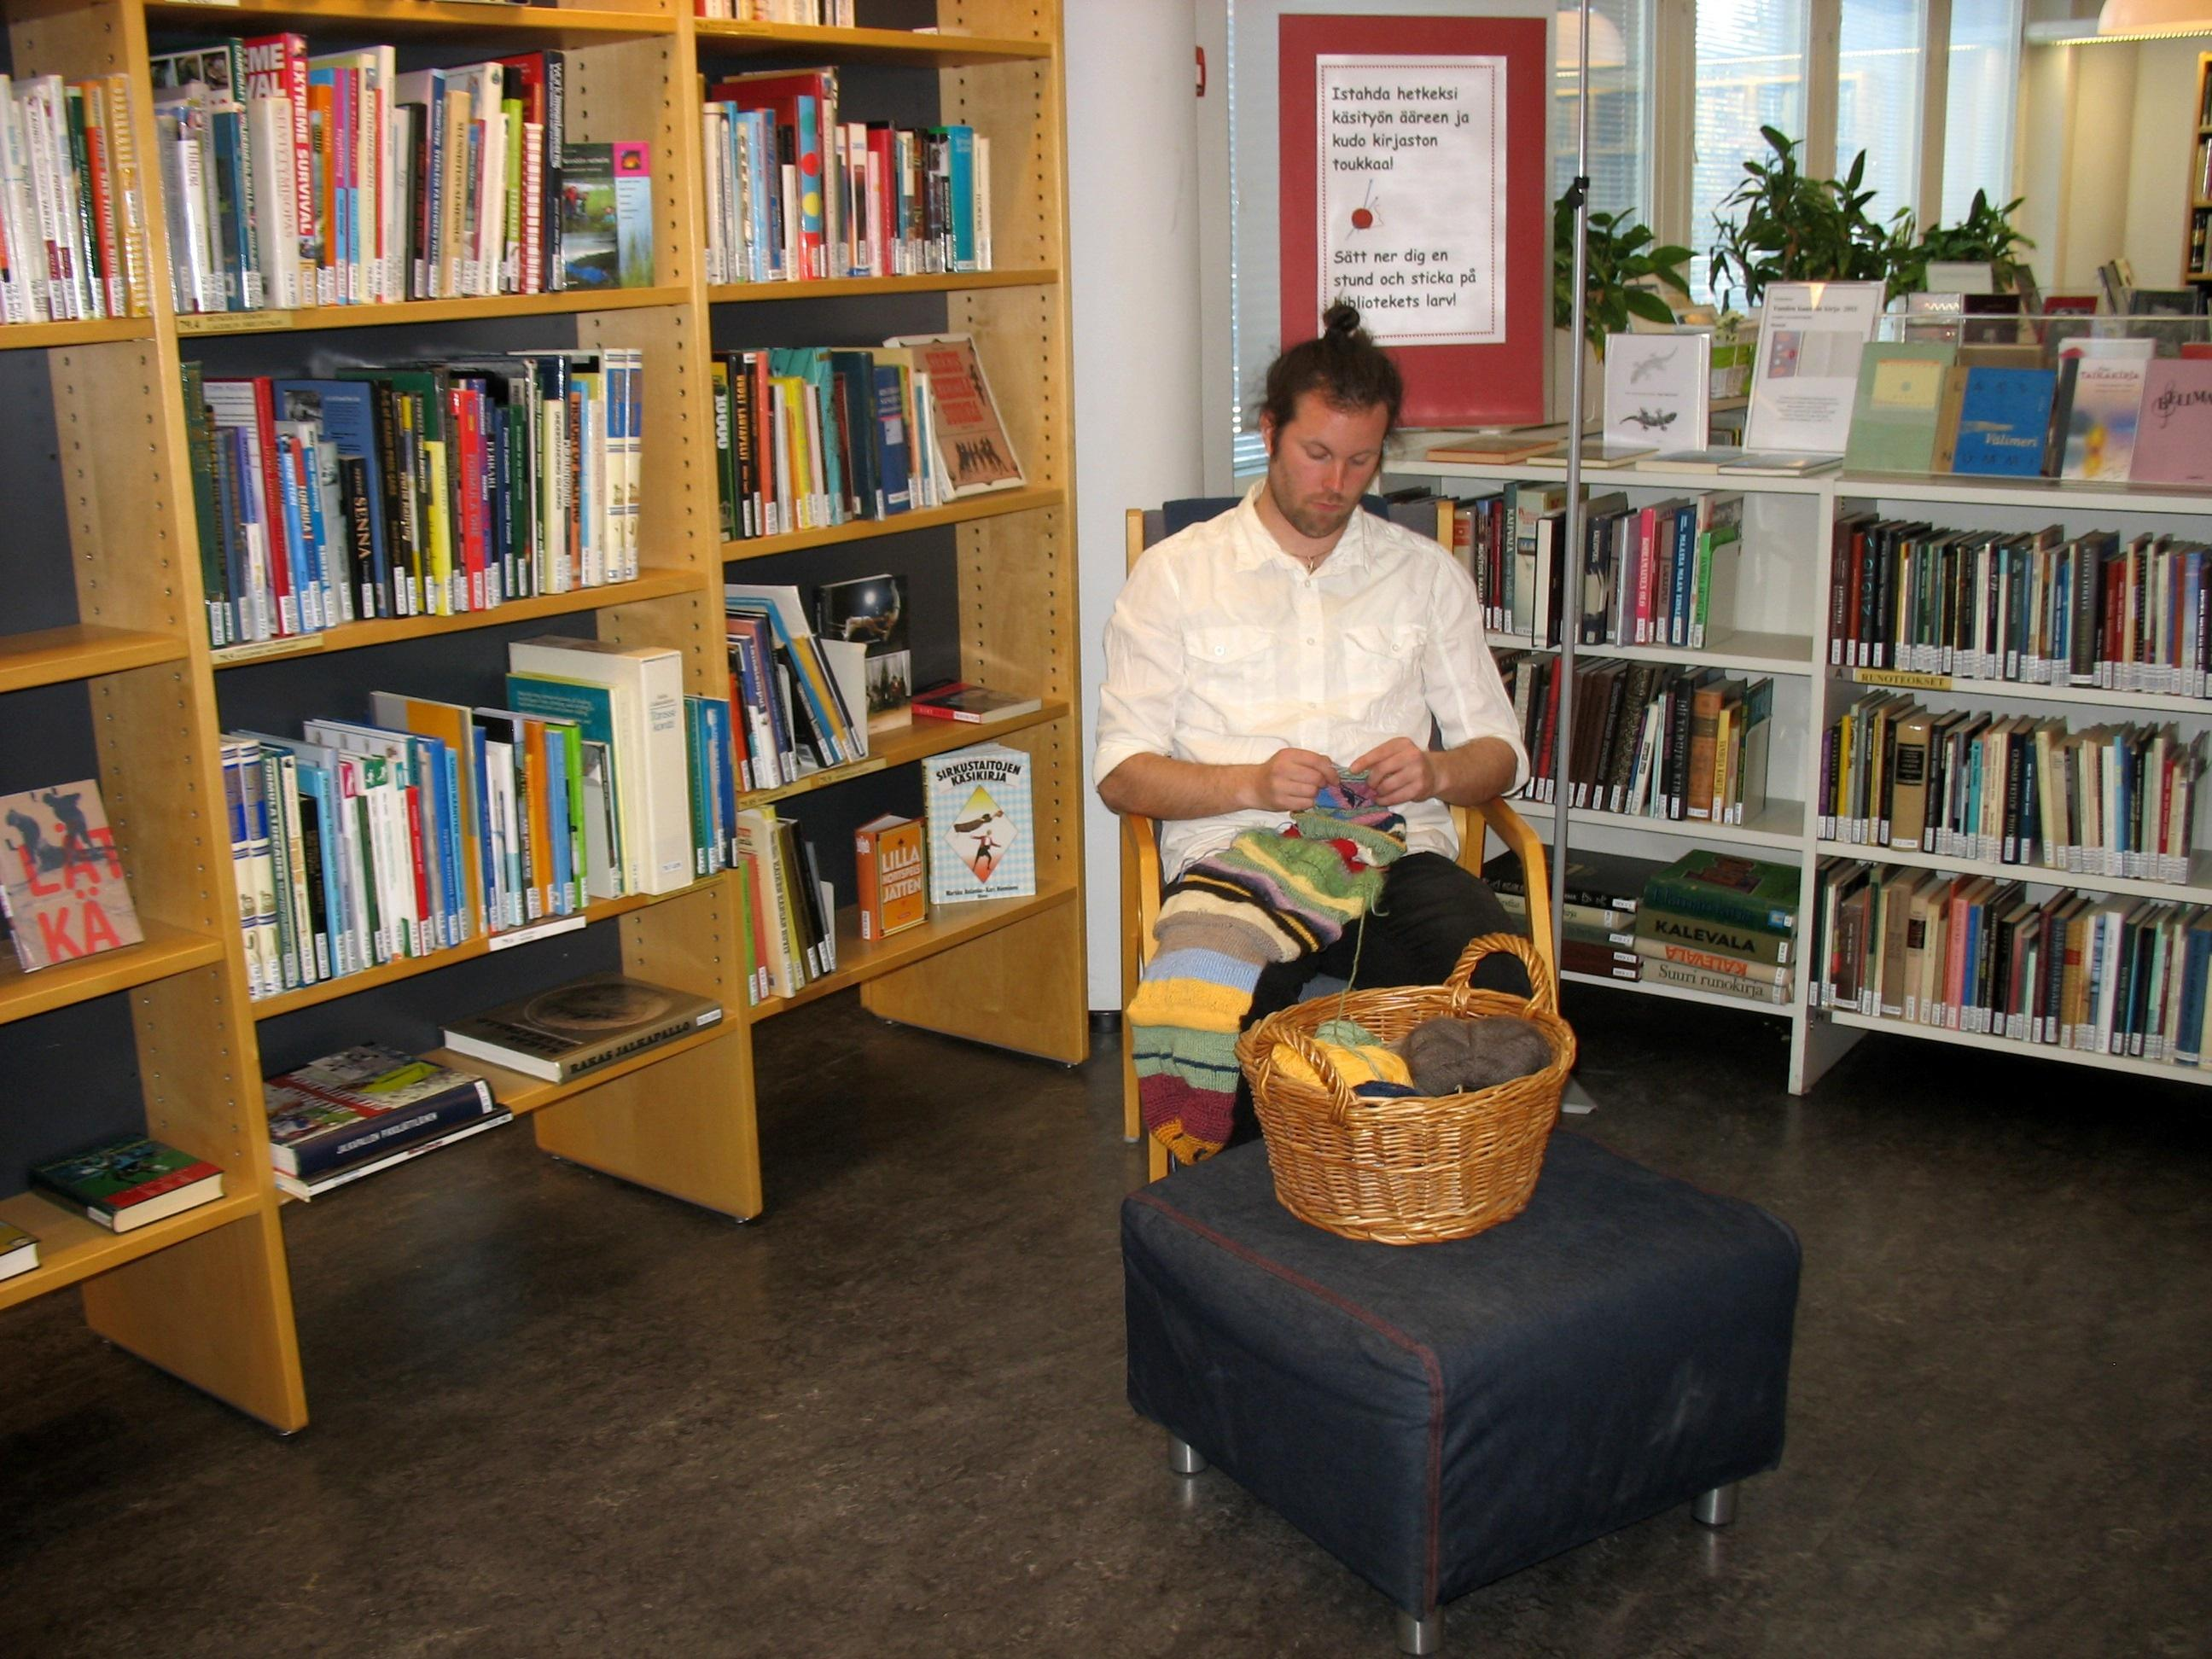Rak: (0, 0, 1087, 1432), (1376, 464, 2212, 1096)
